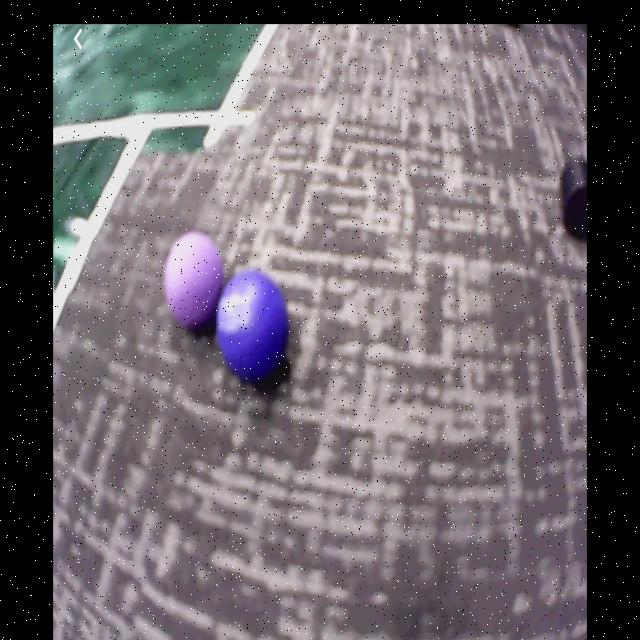ball: (220, 271, 292, 385), (167, 233, 222, 335)
